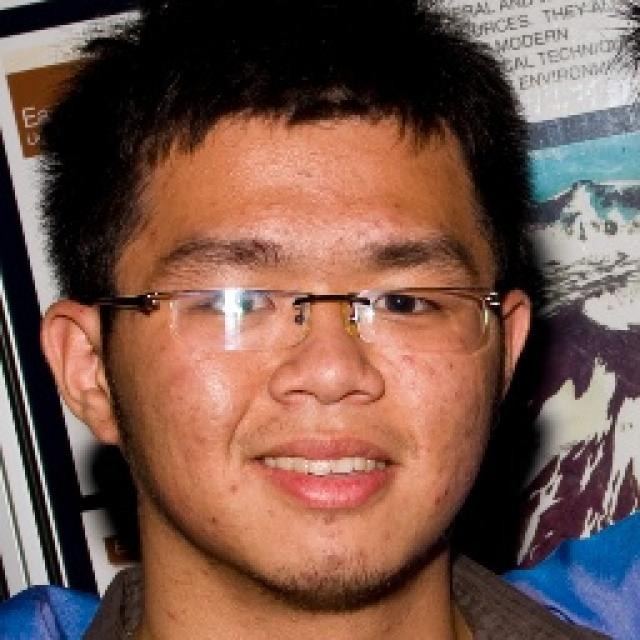earlobe: (41, 302, 124, 448), (495, 291, 533, 402)
